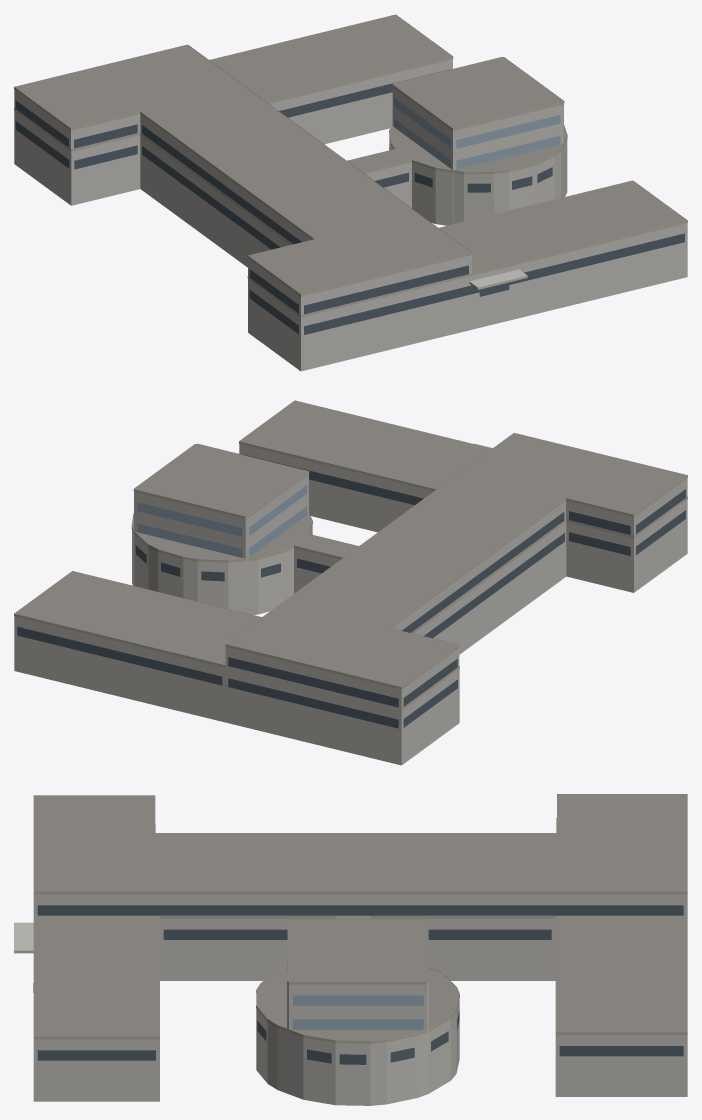
Rendered from justice-building-1985.glb.
The picture shows the model from 3 angles, top to bottom: view 1: azimuth 30°, elevation 25°; view 2: azimuth 150°, elevation 25°; view 3: azimuth 270°, elevation 25°; orthographic projection. The views are drawn at different scales.
Parts seen in each view (by area): view 1: justice_building_1985; view 2: justice_building_1985; view 3: justice_building_1985.
Part boxes in pixels (x1,y1,x2,y2): justice_building_1985: (14, 14, 687, 371); justice_building_1985: (14, 400, 687, 765); justice_building_1985: (14, 794, 687, 1105).
Size of the model in its own units: 80.27 by 18.88 by 102.
